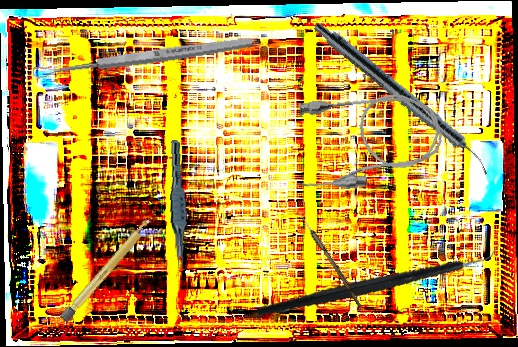Cannula: (288, 86, 447, 195)
Chopper: (256, 212, 500, 346)
Handpiece: (308, 19, 498, 177)
Scalpel Handle: (59, 214, 156, 325)
Surgical Spoon: (32, 34, 253, 81), (291, 203, 365, 309)
Tissue Forceps: (163, 139, 192, 272)
